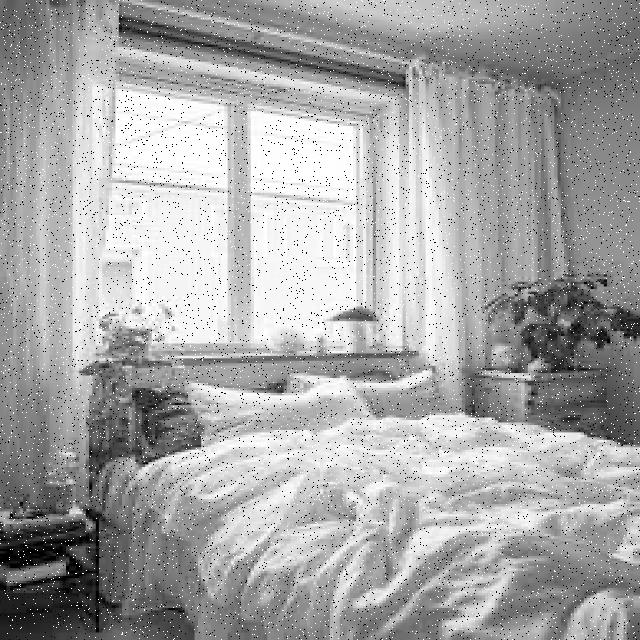bed: (112, 369, 640, 640)
